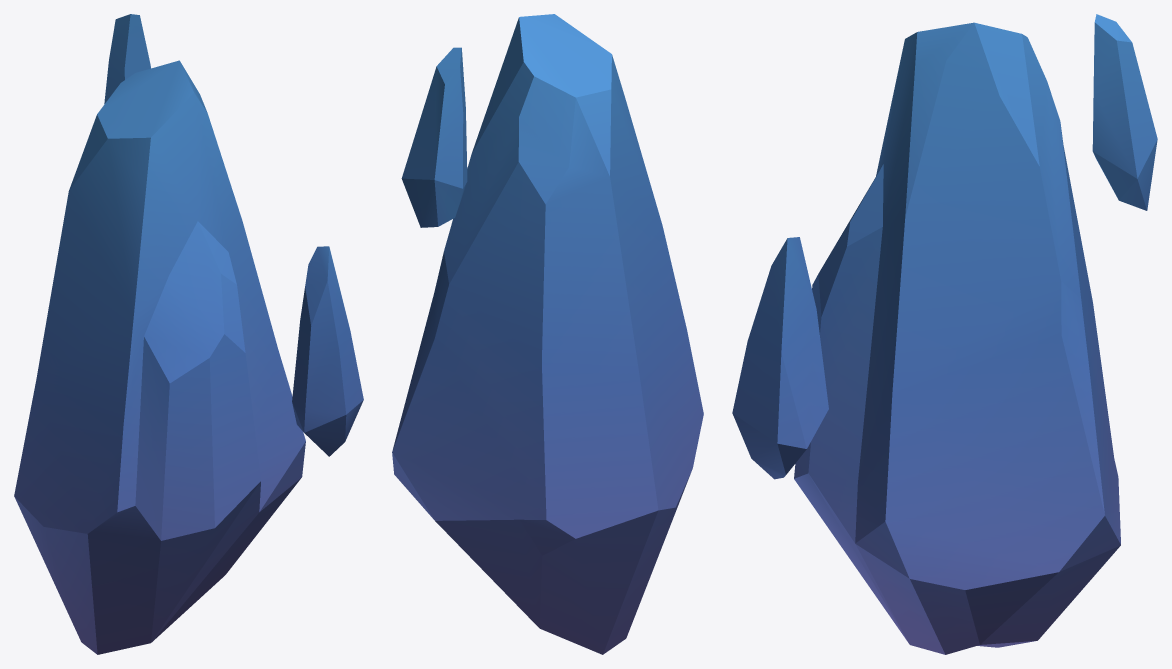
Rendered from crystal 1.fbx.
3 views of the same model, side by side, from view 1: azimuth 30°, elevation 25°; view 2: azimuth 150°, elevation 25°; view 3: azimuth 270°, elevation 25° (orthographic). The views are drawn at different scales.
Parts seen in each view (by area): view 1: crystal; view 2: crystal; view 3: crystal.
Boxes of the visible parts, x1,y1,x2,y2 form: crystal: (14,14,363,654); crystal: (392,14,703,654); crystal: (732,14,1157,654).
Size of the model in its own units: 0.8118 by 1.79 by 1.01.
